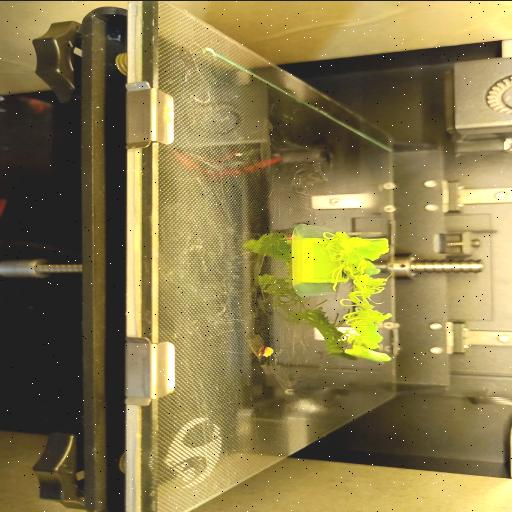spaghetti: (326, 231, 391, 346)
